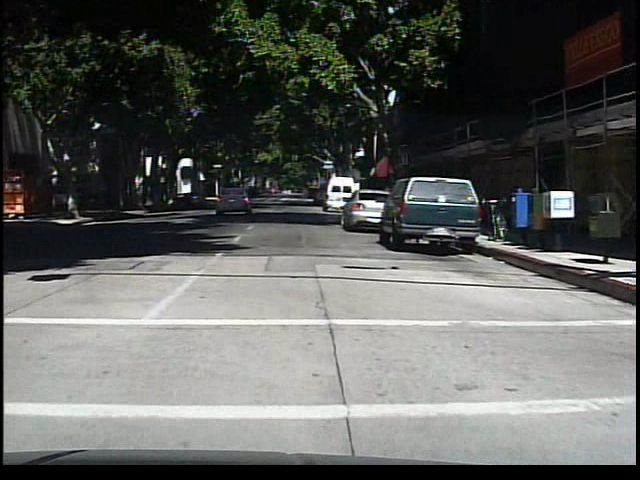person: (60, 178, 77, 219), (294, 180, 313, 207)
